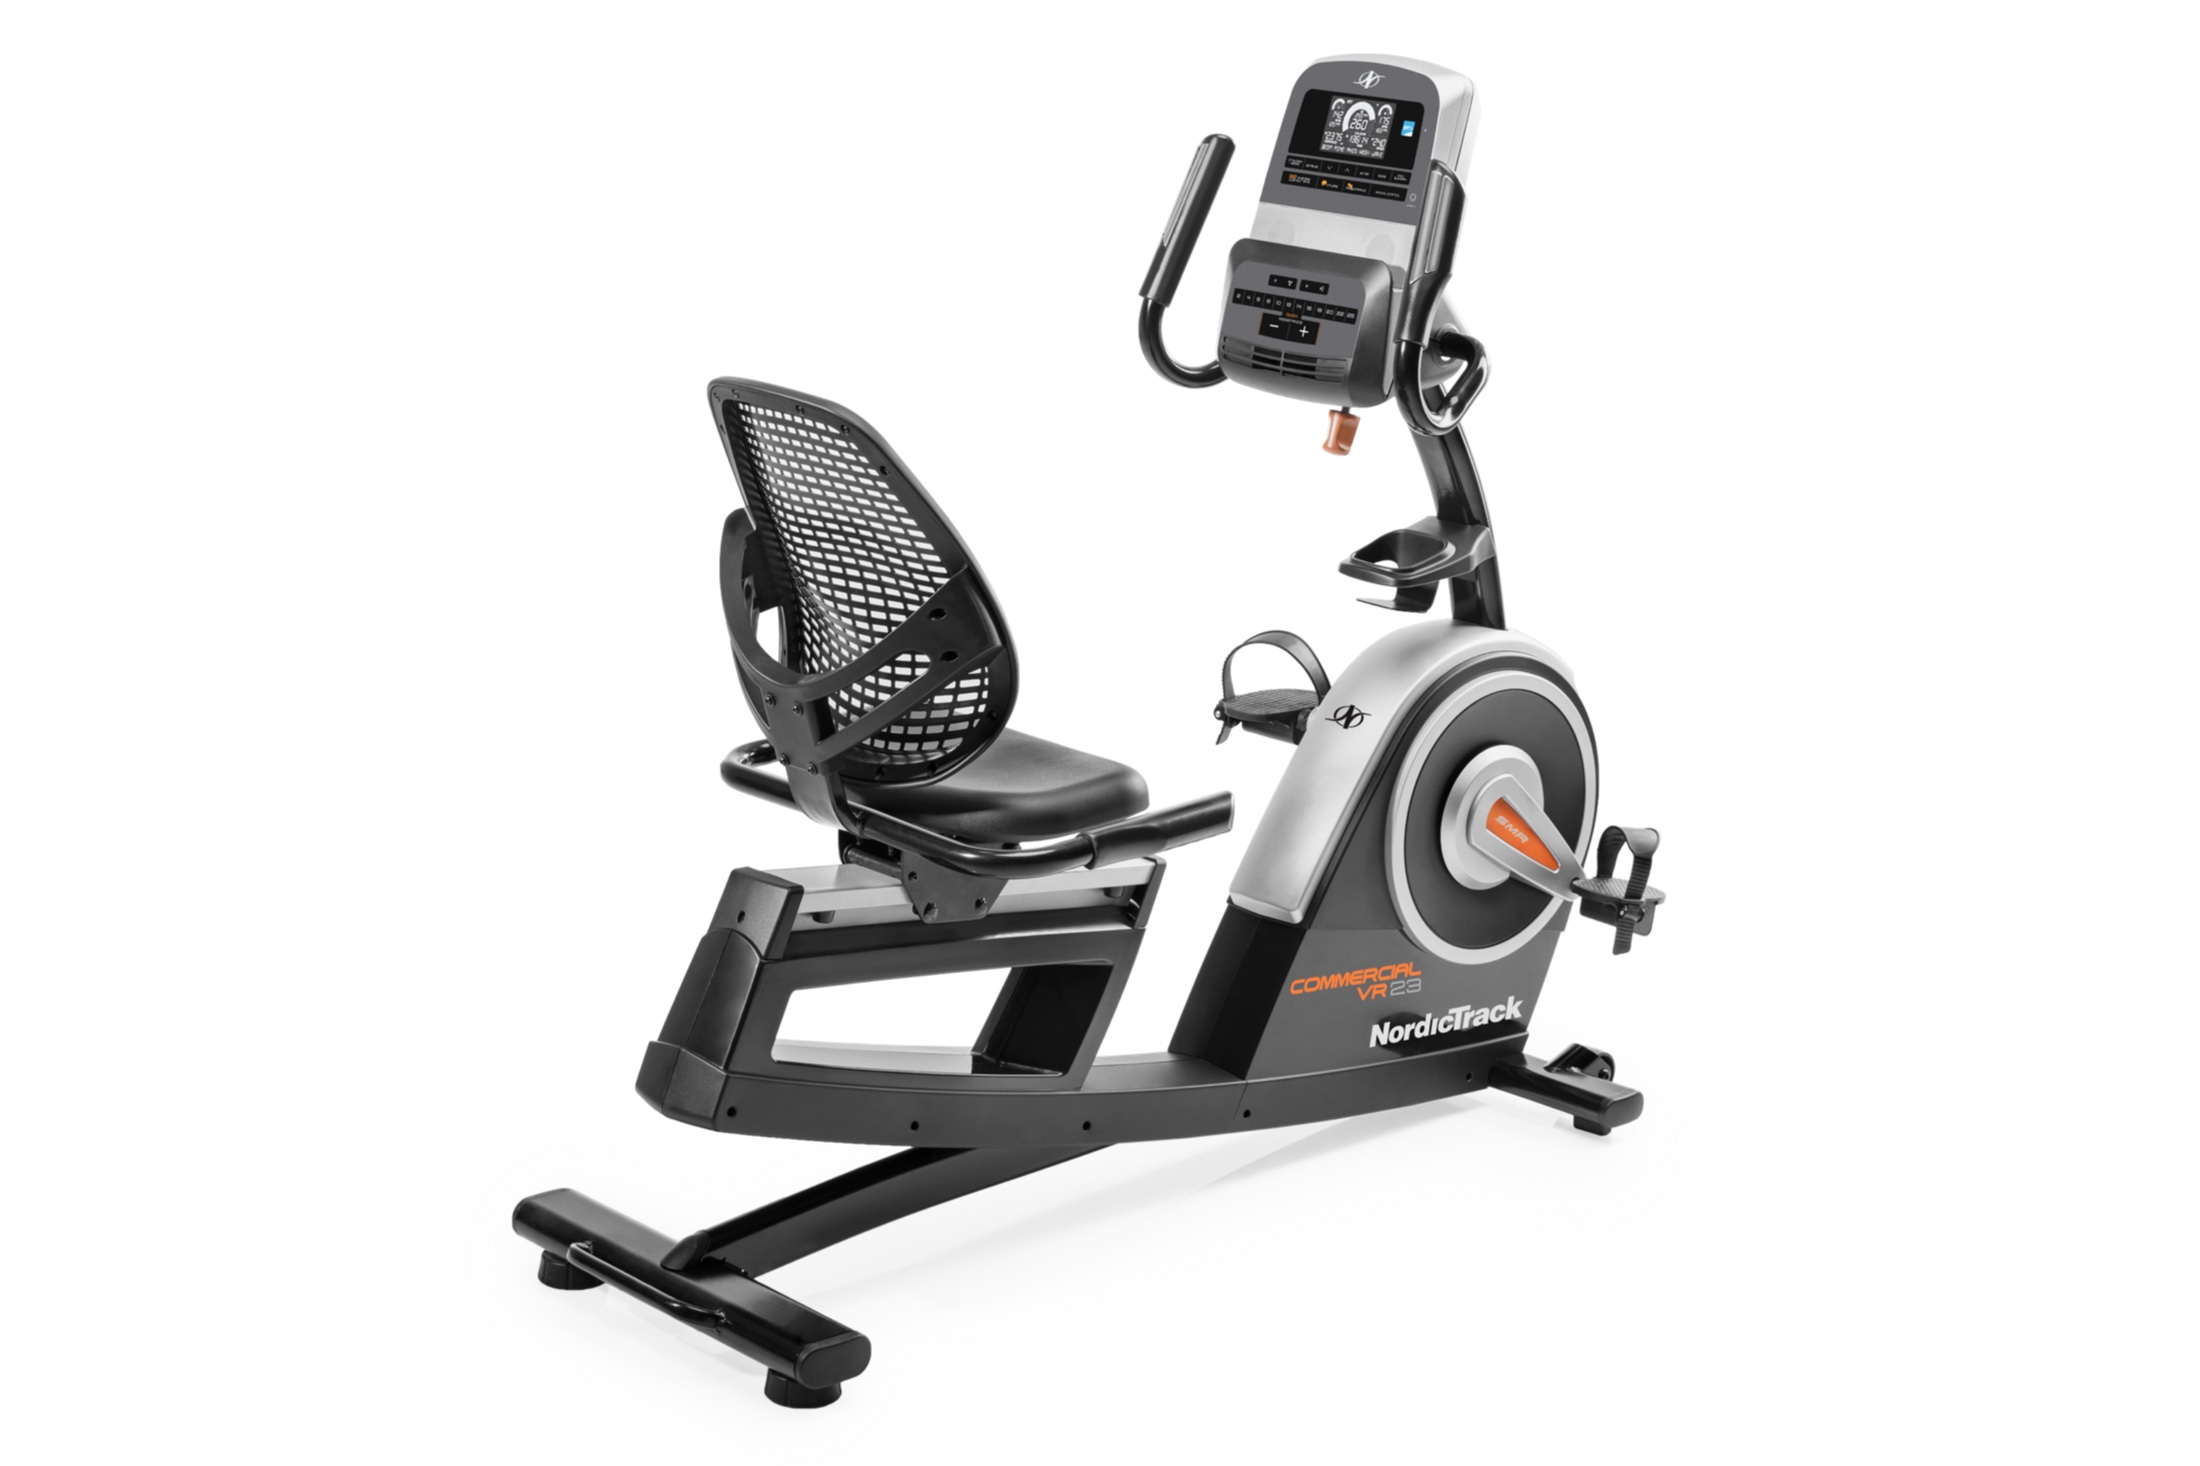gym_bike: (415, 57, 1691, 1414)
